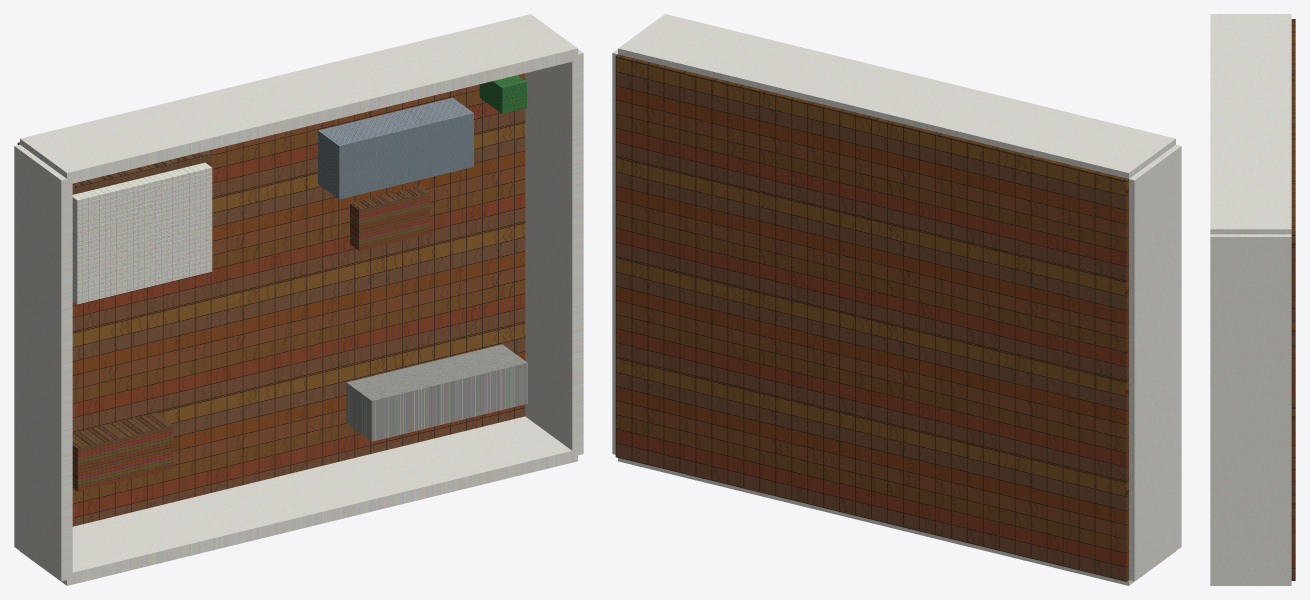
File: sample_2_studio_textured.glb
3 renders of one model, left to right at view 1: azimuth 30°, elevation 25°; view 2: azimuth 150°, elevation 25°; view 3: azimuth 270°, elevation 25°, orthographic. The views are drawn at different scales.
Parts seen in each view (by area): view 1: floor, wall_north, wall_south, wall_west, wall_east, mattress, kitchen_run, sofa, desk, coffee_table, bed_frame, plant; view 2: floor, wall_north, wall_west, wall_south, wall_east; view 3: wall_east, wall_north, floor, wall_south.
Boxes of the visible parts, x1,y1,x2,y2 form: floor: (17, 73, 525, 526); wall_north: (20, 14, 577, 184); wall_south: (20, 416, 577, 585); wall_west: (14, 144, 72, 581); wall_east: (525, 49, 583, 455); mattress: (72, 162, 212, 304); kitchen_run: (346, 344, 527, 441); sofa: (318, 97, 473, 199); desk: (72, 413, 173, 491); coffee_table: (350, 186, 429, 250); bed_frame: (72, 150, 212, 305); plant: (479, 75, 526, 113); floor: (615, 54, 1128, 581); wall_north: (618, 14, 1175, 178); wall_west: (1129, 144, 1181, 581); wall_south: (618, 458, 1175, 585); wall_east: (612, 49, 617, 454); wall_east: (1210, 234, 1291, 583); wall_north: (1210, 14, 1291, 234); floor: (1291, 19, 1295, 580); wall_south: (1210, 583, 1291, 585).
Bounding box in the file's own units: 7.36 × 5.56 × 1.21.
7 materials, 7 textured.
